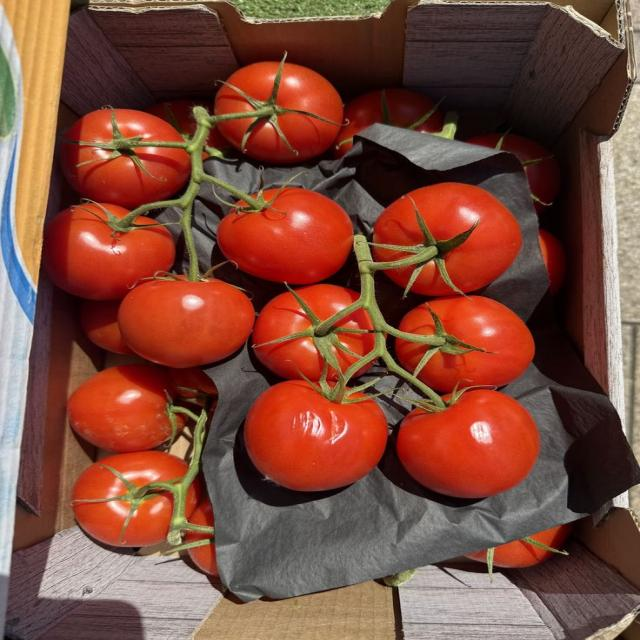tomato: (374, 183, 521, 292), (245, 381, 387, 491), (397, 390, 539, 498), (399, 296, 534, 392), (218, 188, 353, 284), (214, 62, 342, 163), (60, 109, 190, 208), (43, 203, 175, 299), (119, 277, 254, 368), (73, 451, 187, 546), (68, 365, 176, 452), (334, 89, 444, 158), (467, 134, 560, 213), (253, 292, 323, 381), (80, 300, 133, 353), (147, 100, 208, 139), (539, 229, 566, 295), (494, 540, 554, 568), (168, 367, 217, 399), (188, 540, 219, 576)
